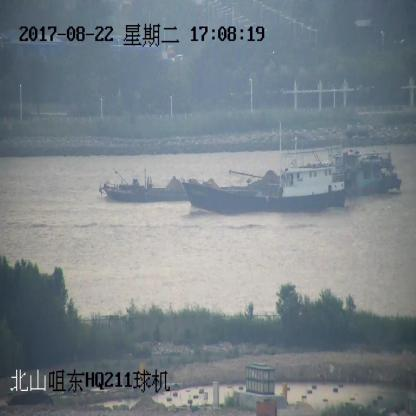Fishing Boat: (183, 152, 346, 214)
